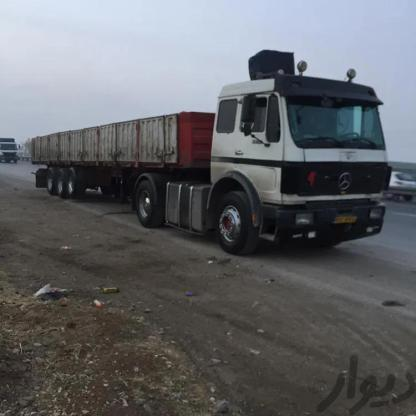Car: (388, 165, 411, 203)
Truck: (29, 63, 395, 268), (0, 142, 23, 171)
